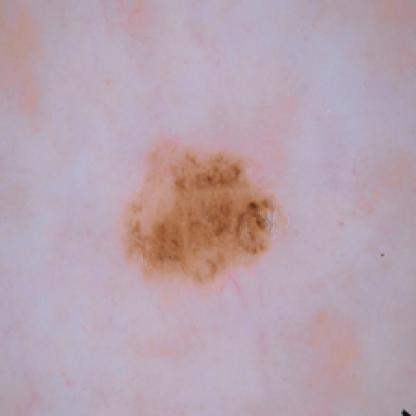benign: (126, 141, 284, 282)
